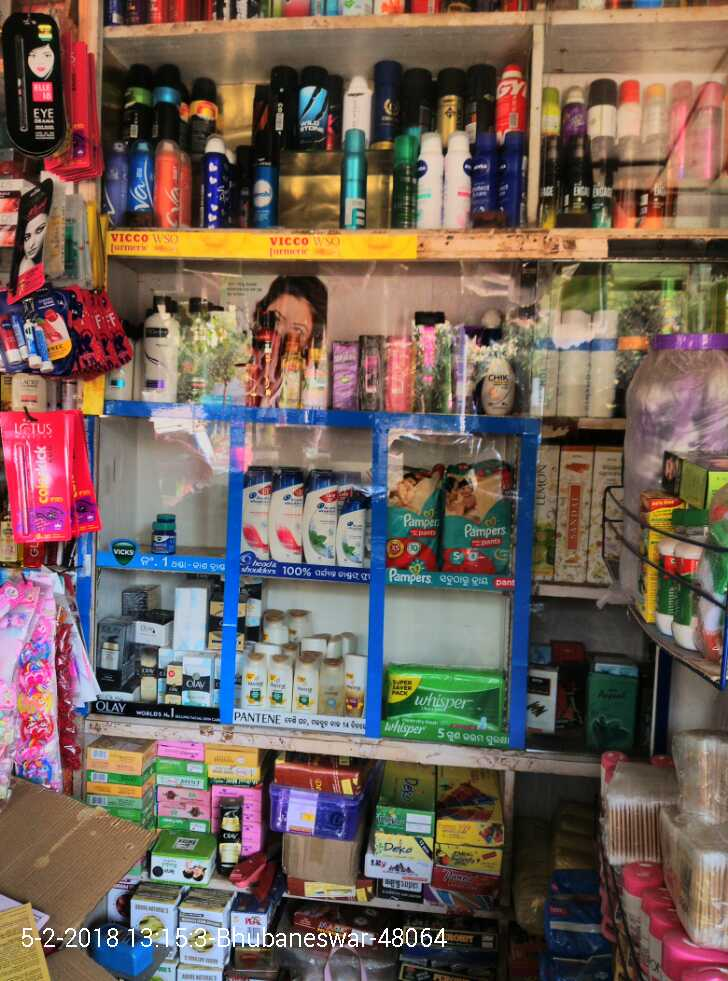beauty: (96, 589, 222, 710), (239, 610, 364, 713), (229, 465, 272, 564), (271, 464, 310, 569), (308, 472, 340, 576), (334, 496, 371, 565)
pharmacy: (382, 664, 508, 740), (448, 459, 509, 583), (386, 464, 437, 568), (146, 507, 182, 555)
